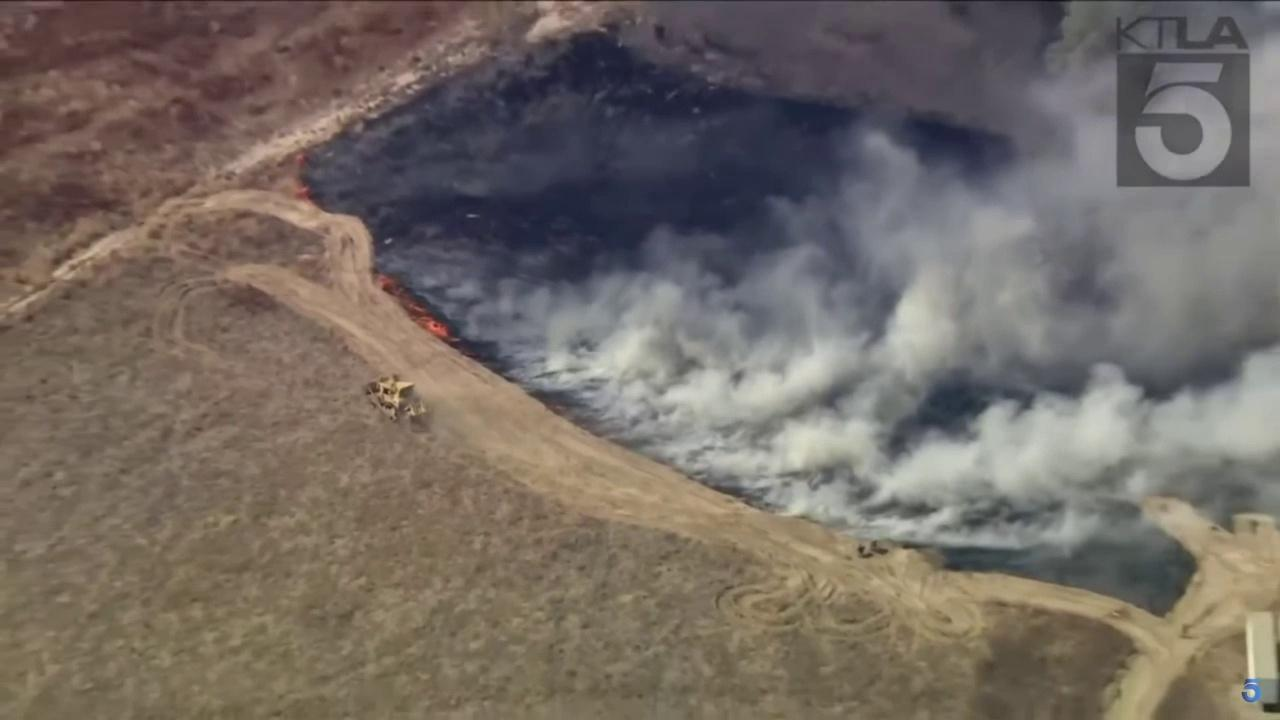fire: (376, 272, 451, 338), (294, 185, 311, 197)
smoke: (371, 2, 1280, 551)
